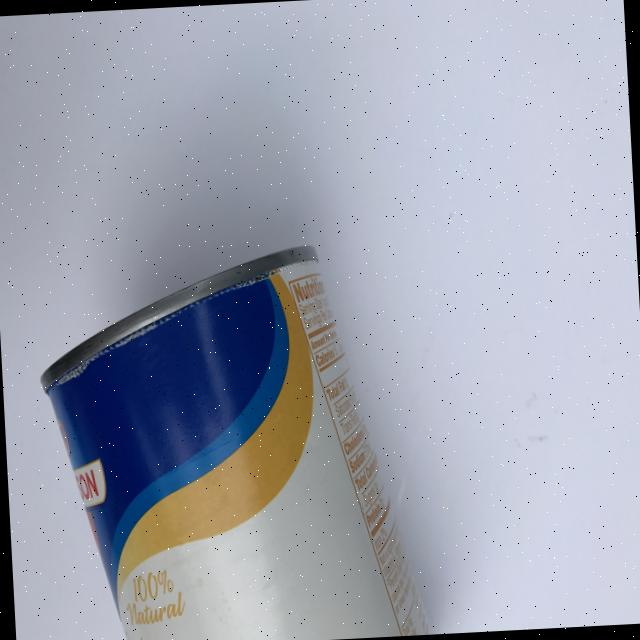metal: (33, 238, 431, 640)
